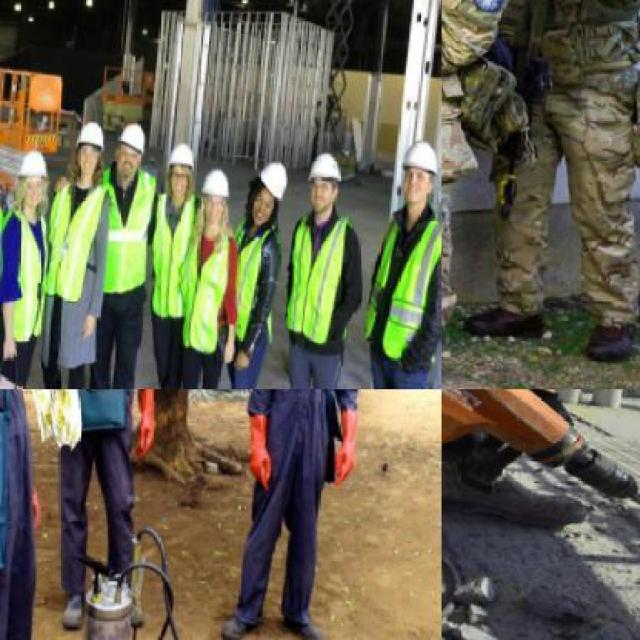Vest: (362, 198, 440, 368), (283, 207, 355, 356), (500, 0, 638, 71), (91, 163, 158, 303), (0, 198, 57, 354), (43, 174, 108, 308), (174, 225, 235, 360), (146, 189, 202, 325), (225, 212, 277, 350)
